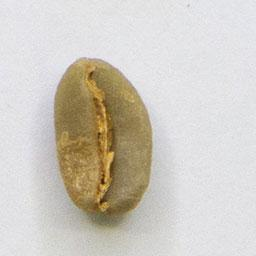longberry: (51, 52, 156, 220)
